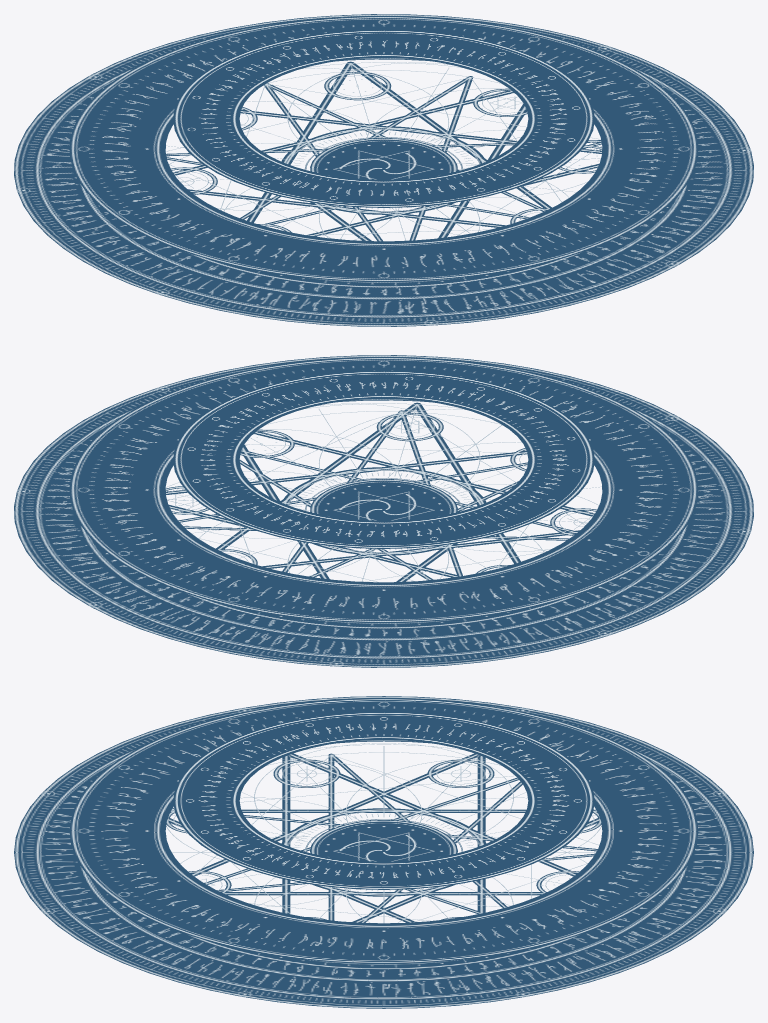
Rendered from 포탈_마법진_복귀.fbx.
3 views of the same model, one above another, from view 1: azimuth 30°, elevation 25°; view 2: azimuth 150°, elevation 25°; view 3: azimuth 270°, elevation 25° (orthographic).
Parts seen in each view (by area): view 1: 마법진_떠있는고리_아래_회전_반시계, 마법진_바닥_문자띠_회전_시계, 마법진_떠있는고리_위_회전_시계, 마법진_바닥_기하_회전_반시계, 마법진_중심; view 2: 마법진_떠있는고리_아래_회전_반시계, 마법진_바닥_문자띠_회전_시계, 마법진_떠있는고리_위_회전_시계, 마법진_바닥_기하_회전_반시계, 마법진_중심; view 3: 마법진_떠있는고리_아래_회전_반시계, 마법진_바닥_문자띠_회전_시계, 마법진_떠있는고리_위_회전_시계, 마법진_바닥_기하_회전_반시계, 마법진_중심.
Boxes of the visible parts, x1=… form: 마법진_떠있는고리_아래_회전_반시계: x1=69, y1=16, x2=698, y2=281; 마법진_바닥_문자띠_회전_시계: x1=14, y1=14, x2=753, y2=326; 마법진_떠있는고리_위_회전_시계: x1=173, y1=29, x2=594, y2=207; 마법진_바닥_기하_회전_반시계: x1=166, y1=61, x2=602, y2=241; 마법진_중심: x1=310, y1=138, x2=457, y2=179; 마법진_떠있는고리_아래_회전_반시계: x1=69, y1=357, x2=698, y2=622; 마법진_바닥_문자띠_회전_시계: x1=14, y1=355, x2=753, y2=667; 마법진_떠있는고리_위_회전_시계: x1=173, y1=370, x2=594, y2=548; 마법진_바닥_기하_회전_반시계: x1=165, y1=402, x2=601, y2=582; 마법진_중심: x1=310, y1=479, x2=457, y2=520; 마법진_떠있는고리_아래_회전_반시계: x1=69, y1=698, x2=698, y2=963; 마법진_바닥_문자띠_회전_시계: x1=14, y1=696, x2=753, y2=1008; 마법진_떠있는고리_위_회전_시계: x1=173, y1=711, x2=594, y2=889; 마법진_바닥_기하_회전_반시계: x1=166, y1=743, x2=601, y2=922; 마법진_중심: x1=310, y1=820, x2=457, y2=861.
Size of the model in its own units: 1000 by 77 by 1000.
Materials: 5 (5 with a texture image).
